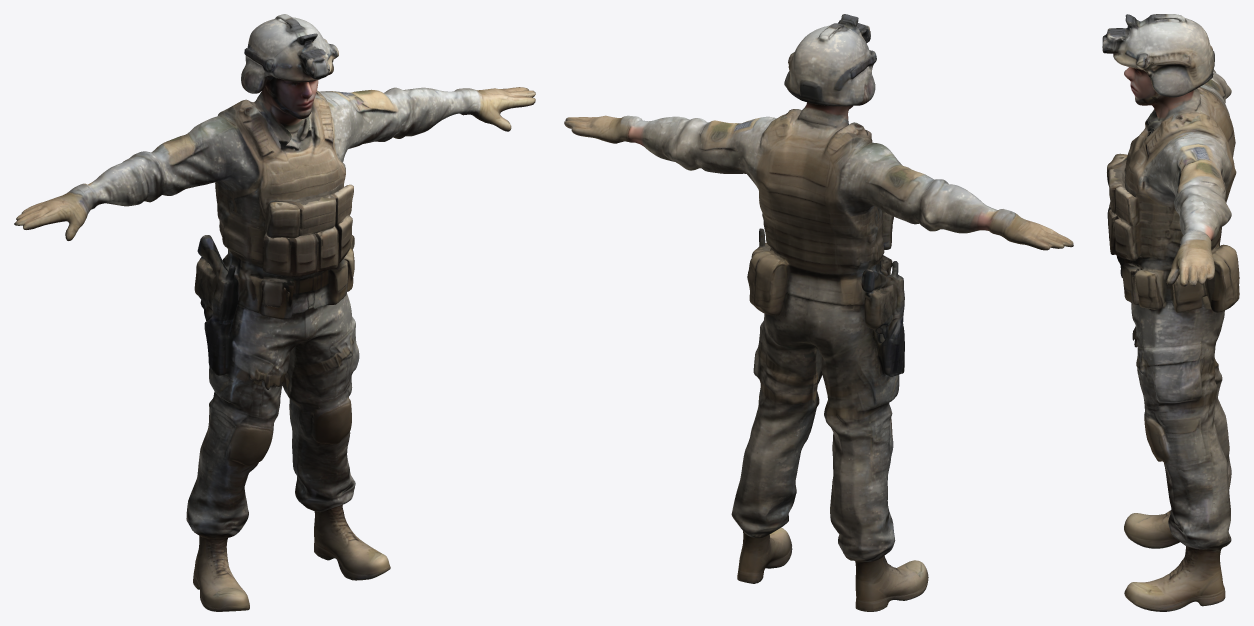
Rendered from soldier.glb.
The picture shows the model from 3 angles, left to right: view 1: azimuth 30°, elevation 25°; view 2: azimuth 150°, elevation 25°; view 3: azimuth 270°, elevation 25°; orthographic projection. The views are drawn at different scales.
Bounding box in the file's own units: 1.92 × 2 × 0.4456.
1 material, 1 textured.
